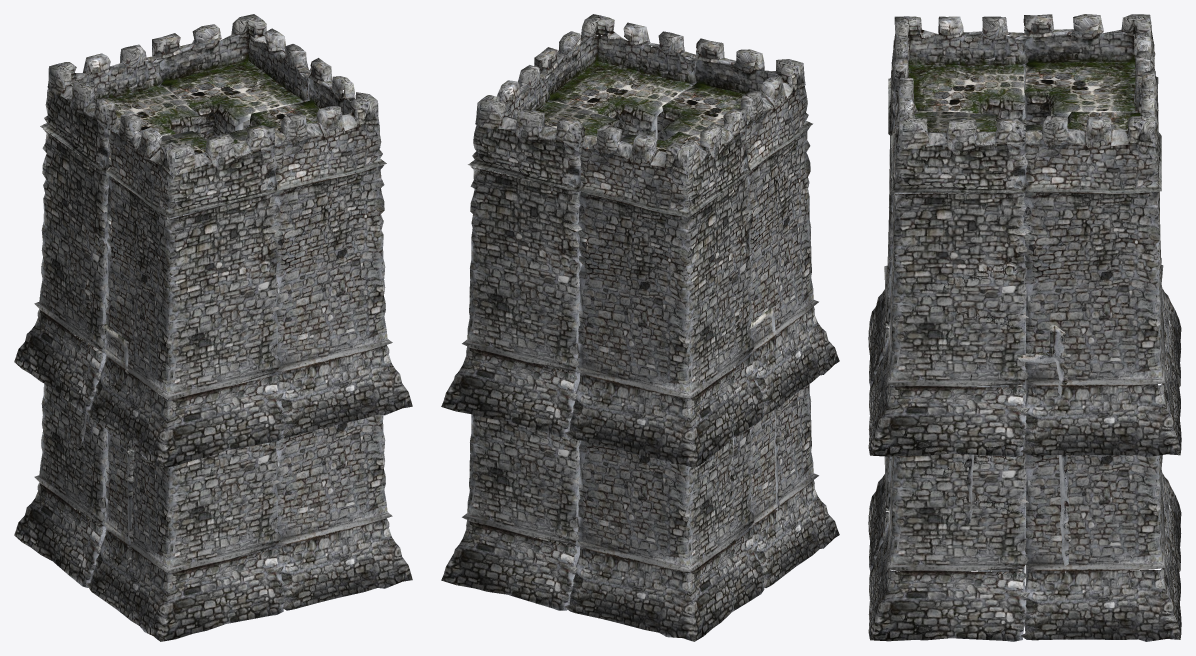
Rendered from castlewall.glb.
3 renders of one model, left to right at view 1: azimuth 30°, elevation 25°; view 2: azimuth 150°, elevation 25°; view 3: azimuth 270°, elevation 25°, orthographic. The views are drawn at different scales.
Parts seen in each view (by area): view 1: cw_tower, cw_wall; view 2: cw_tower, cw_wall; view 3: cw_tower, cw_wall.
Part boxes in pixels (box(x1,y1,x2,y2)): cw_tower: box(14, 14, 412, 641); cw_wall: box(78, 272, 268, 573); cw_tower: box(441, 14, 839, 641); cw_wall: box(524, 296, 784, 572); cw_tower: box(868, 14, 1181, 641); cw_wall: box(962, 325, 1070, 572).
Size of the model in its own units: 10.84 by 19.45 by 10.84.
Materials: 2 (2 with a texture image).
